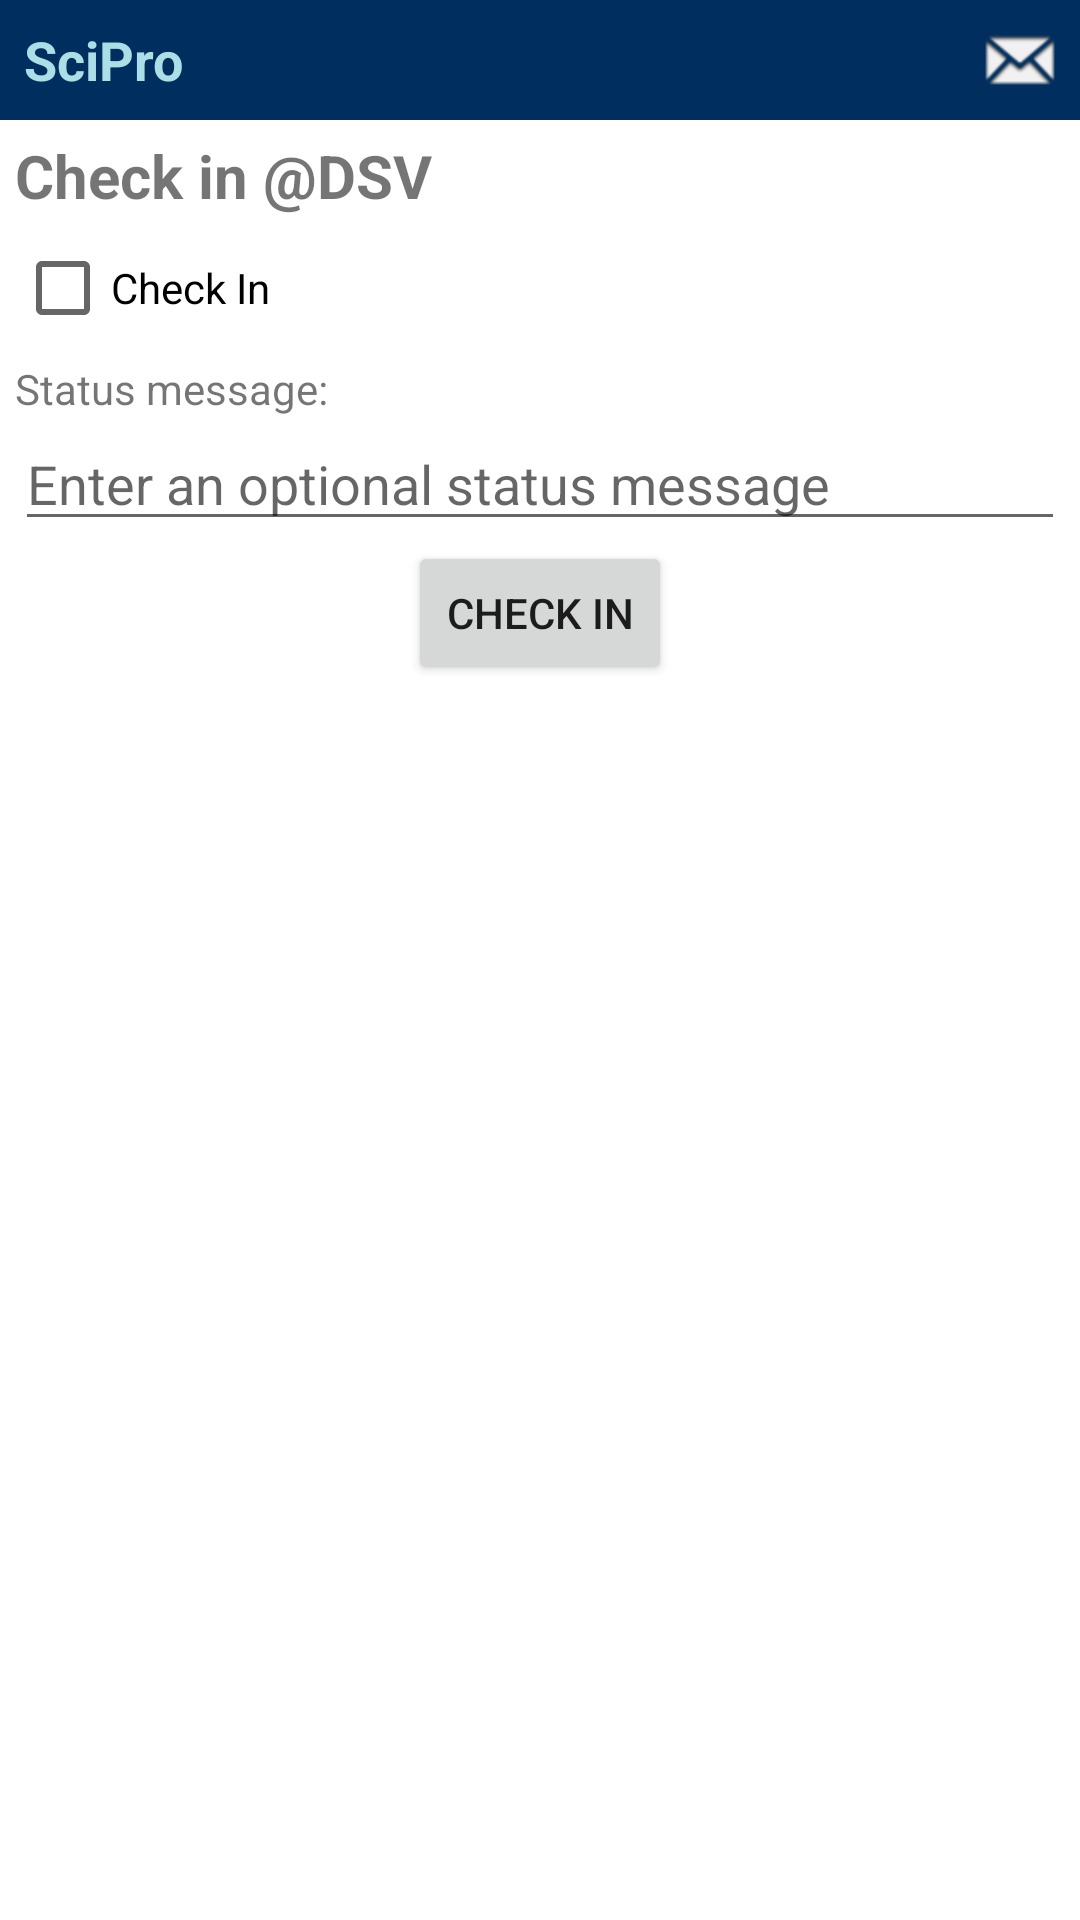

Icon click points for this 1080px x 1920px phone screenshot, format point (x, y):
message: point (1020, 60)
